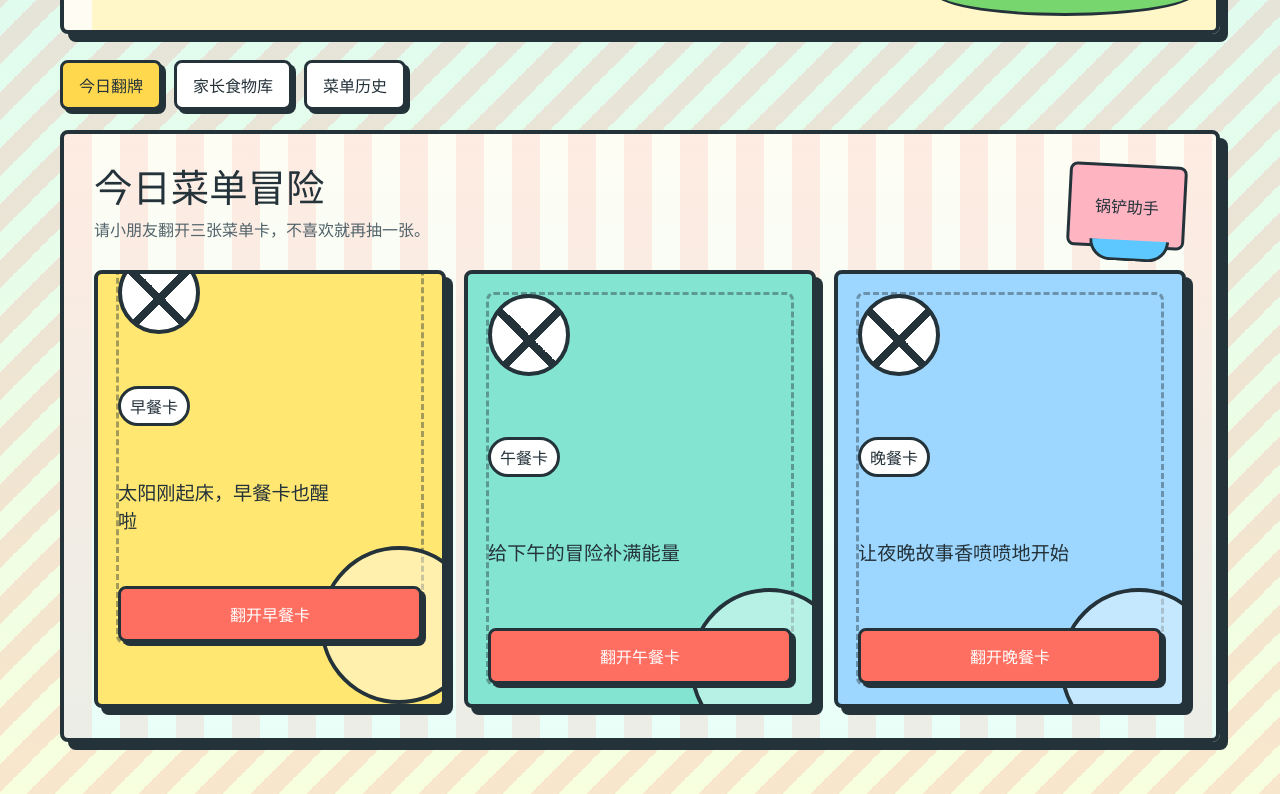
Test: App › keeps meal cards face down until a child flips them
(page scrolled)
Expected: the button "翻开午餐卡" is shown, [488,628,792,684]
Expected: the button "翻开晚餐卡" is shown, [858,628,1162,684]
Step 1. Click the button "翻开早餐卡" → point(270, 614), box [118,586,422,642]
(page scrolled)
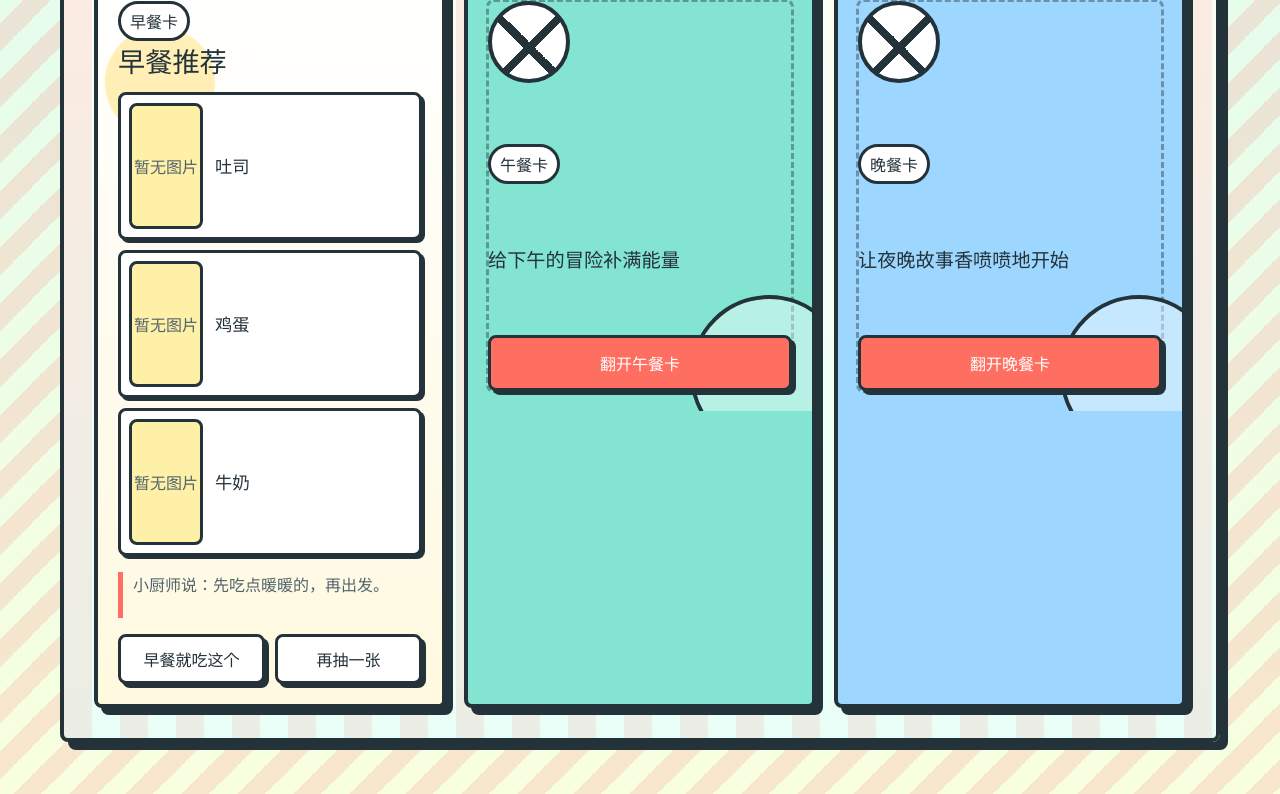
Result: the text "吐司" is shown at [215,157,250,177]
Result: the button "早餐就吃这个" is shown at [118,634,265,684]
Result: the button with aria-label "再抽一张早餐卡" is shown at [275,634,422,684]
